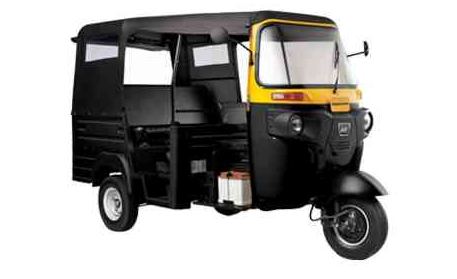auto: (66, 17, 391, 269)
